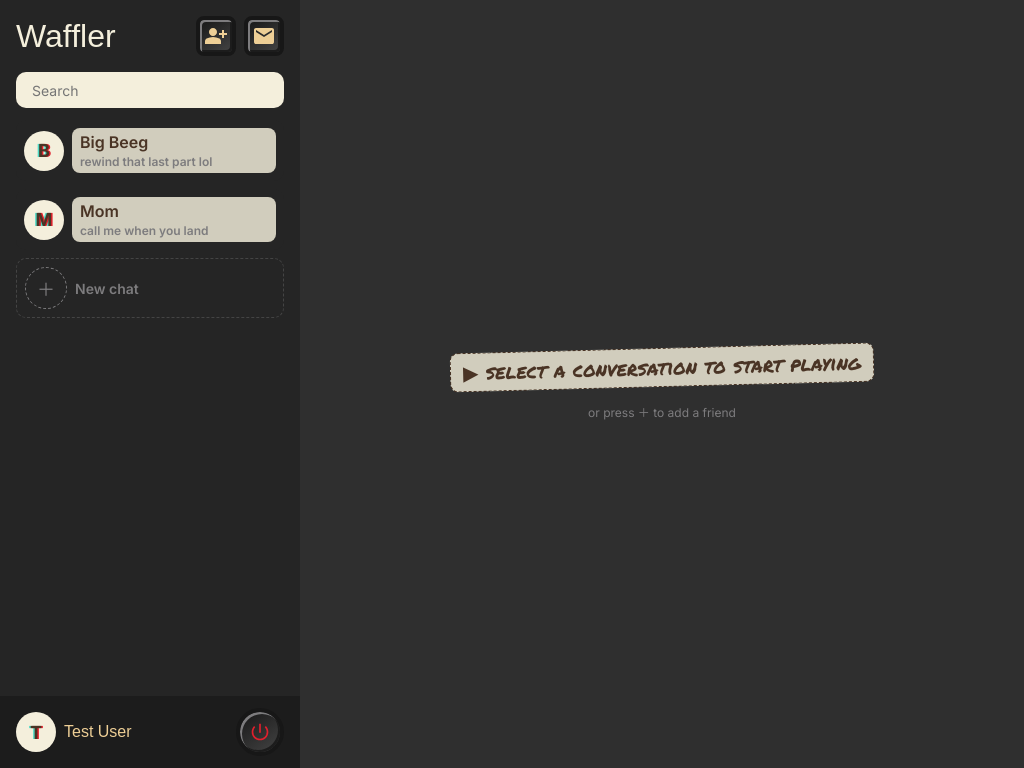
HomePage › chat management › renames a chat from the header pencil icon
This screenshot has width=1024, height=768.
Click the text "Big Beeg" at (174, 150), box [72,128,276,173]
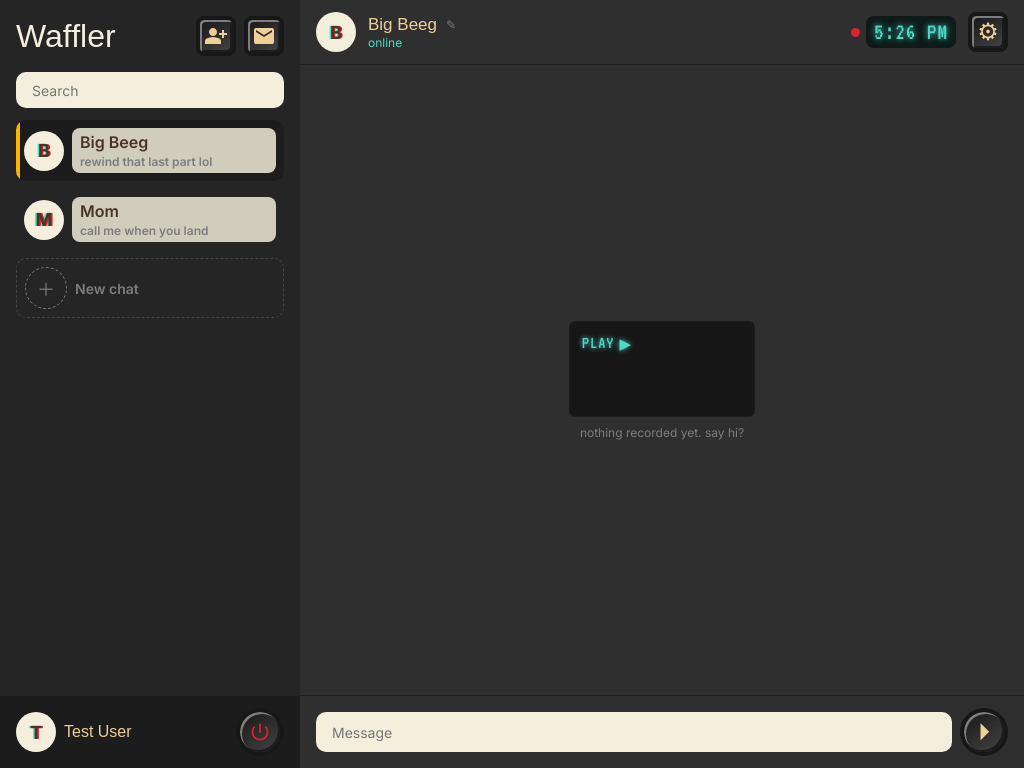
expect the field with placeholder "Message" is shown: met, box [316,712,952,752]
Click the button named "Rename chat" at (451, 24), box [441,14,461,34]
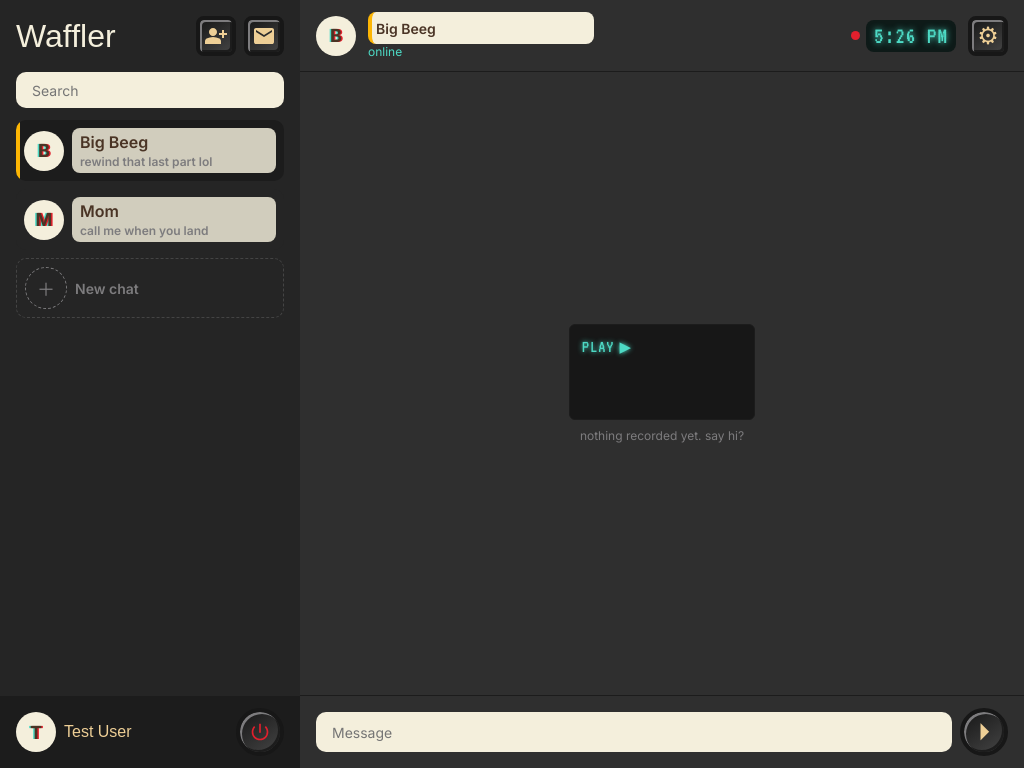
Replace the text in the field showing "Big Beeg" with "Trip planning" at (481, 28), box [368,12,594,44]
Then press Enter
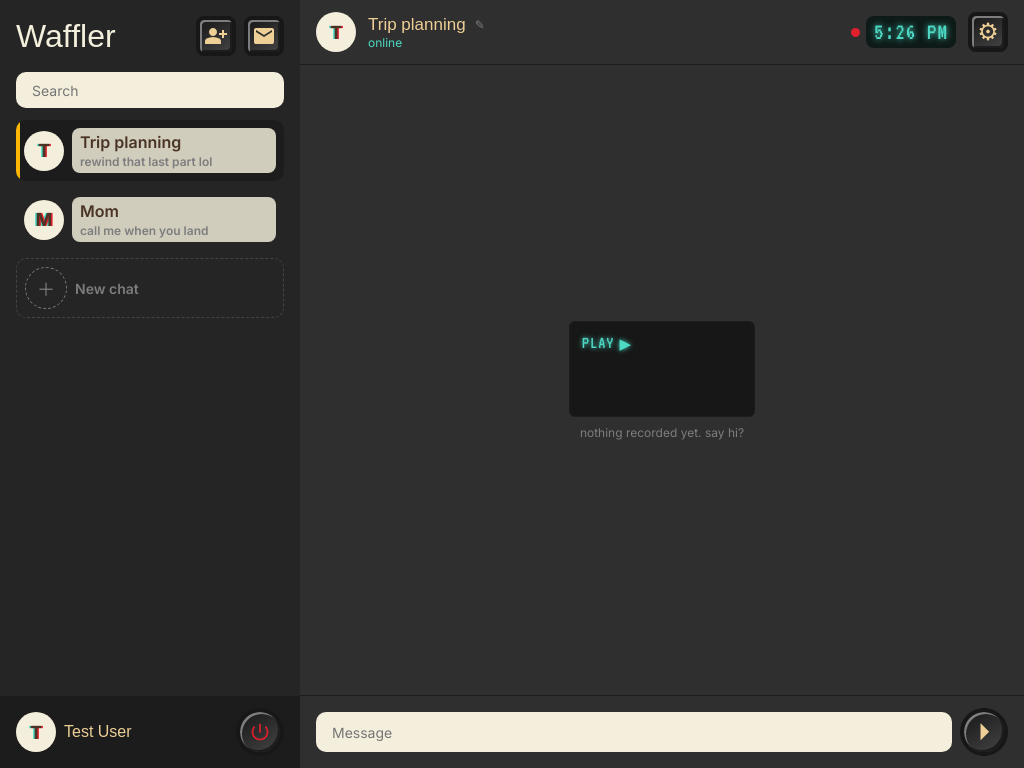
expect the text "Trip planning" is shown: met, box [80,132,181,152]
